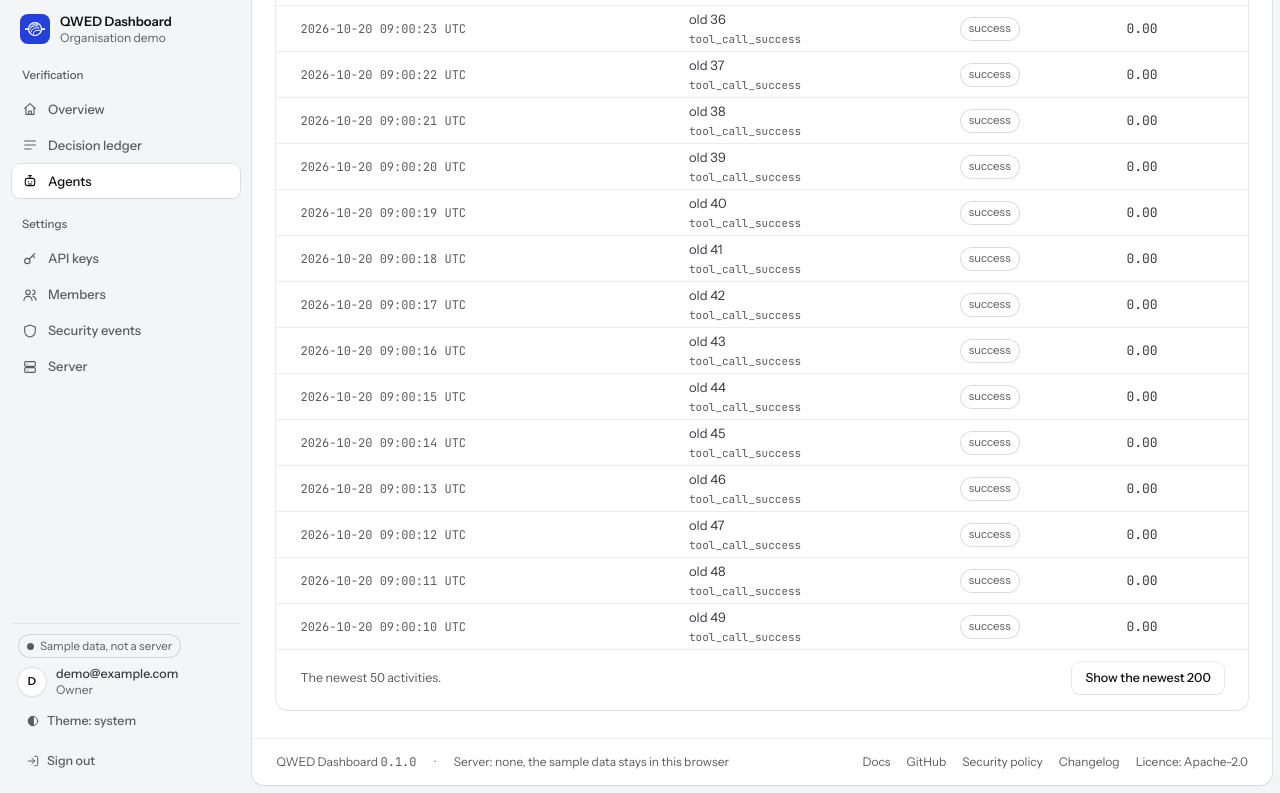
Test: AgentPage › shows the newer 50 on a return visit, not the 200 cached from before
(page scrolled)
Click the button "Show the newest 200" at (1148, 678), box left=1072, top=662, right=1224, bottom=694
(page scrolled)
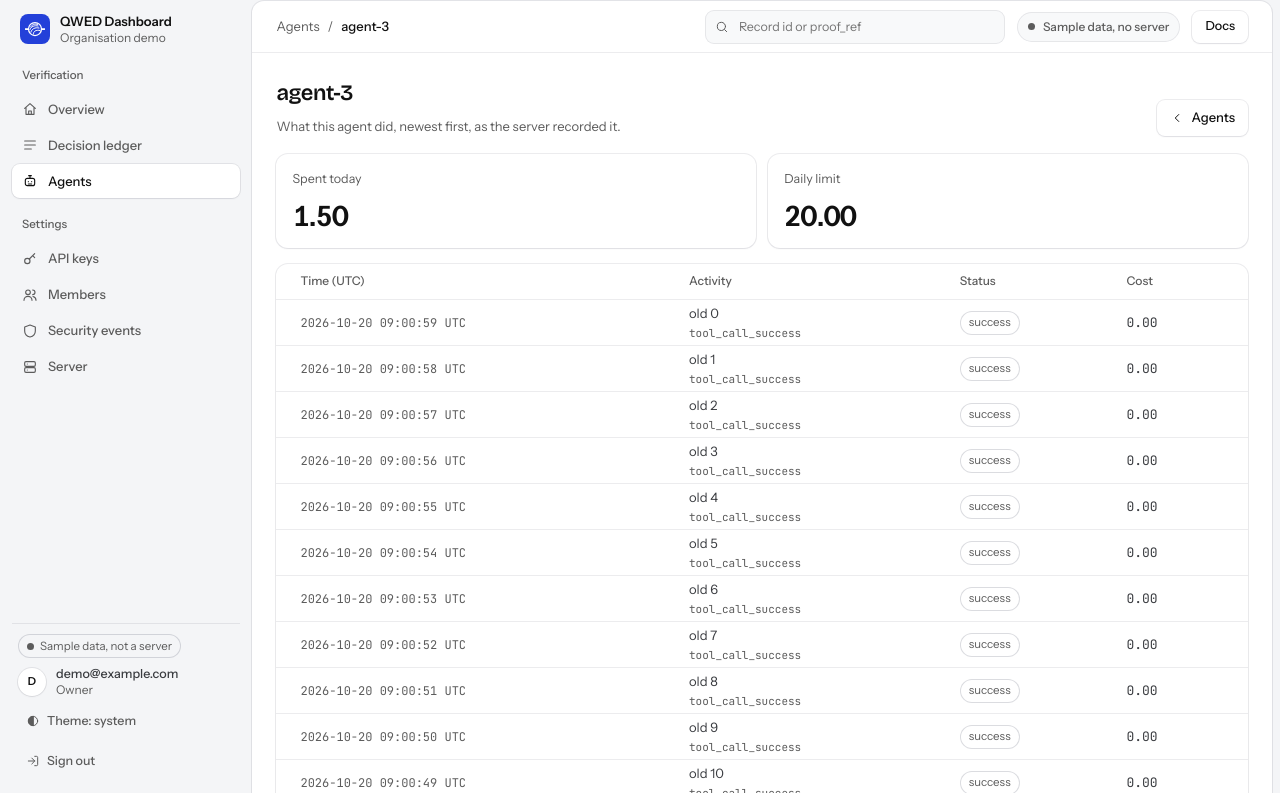
Click the 2nd link "Agents" at (1203, 118), box left=1157, top=100, right=1248, bottom=136
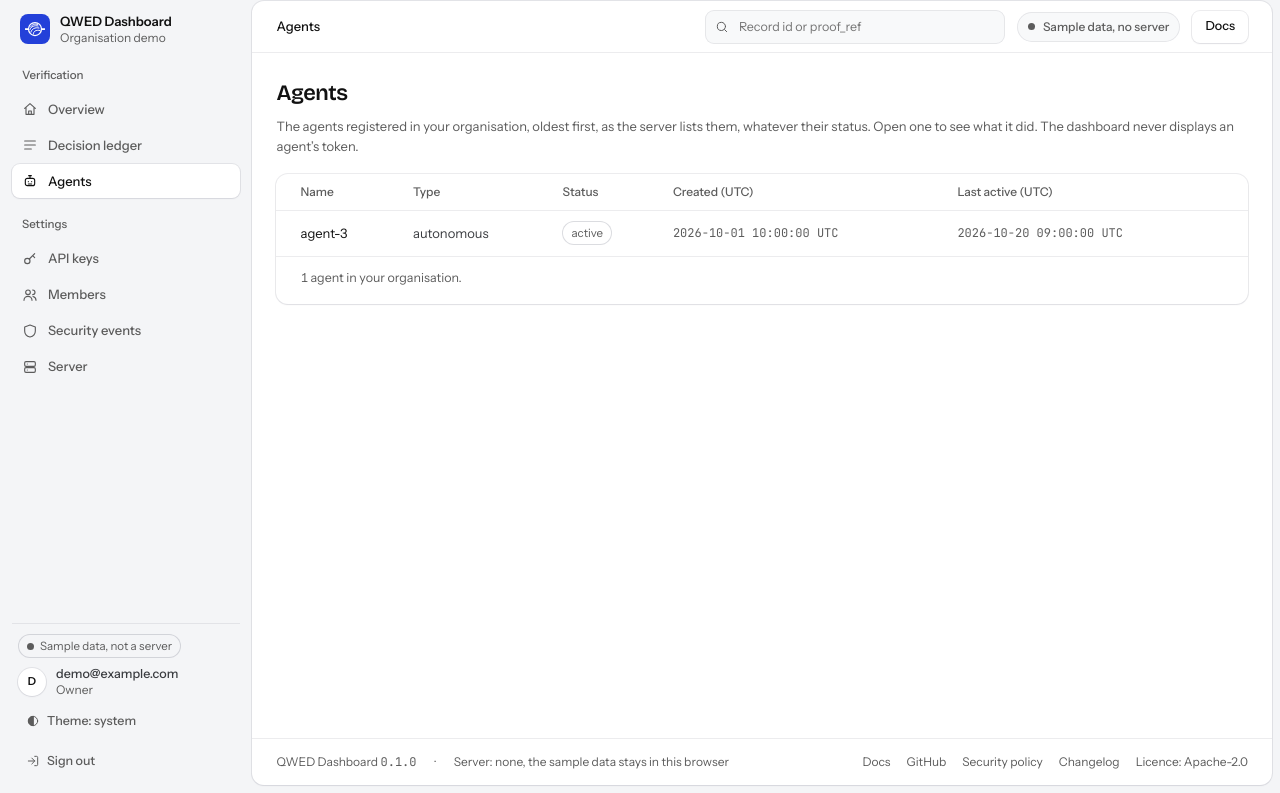
Click the link "agent-3" at (324, 232), box left=300, top=224, right=348, bottom=240
(page scrolled)
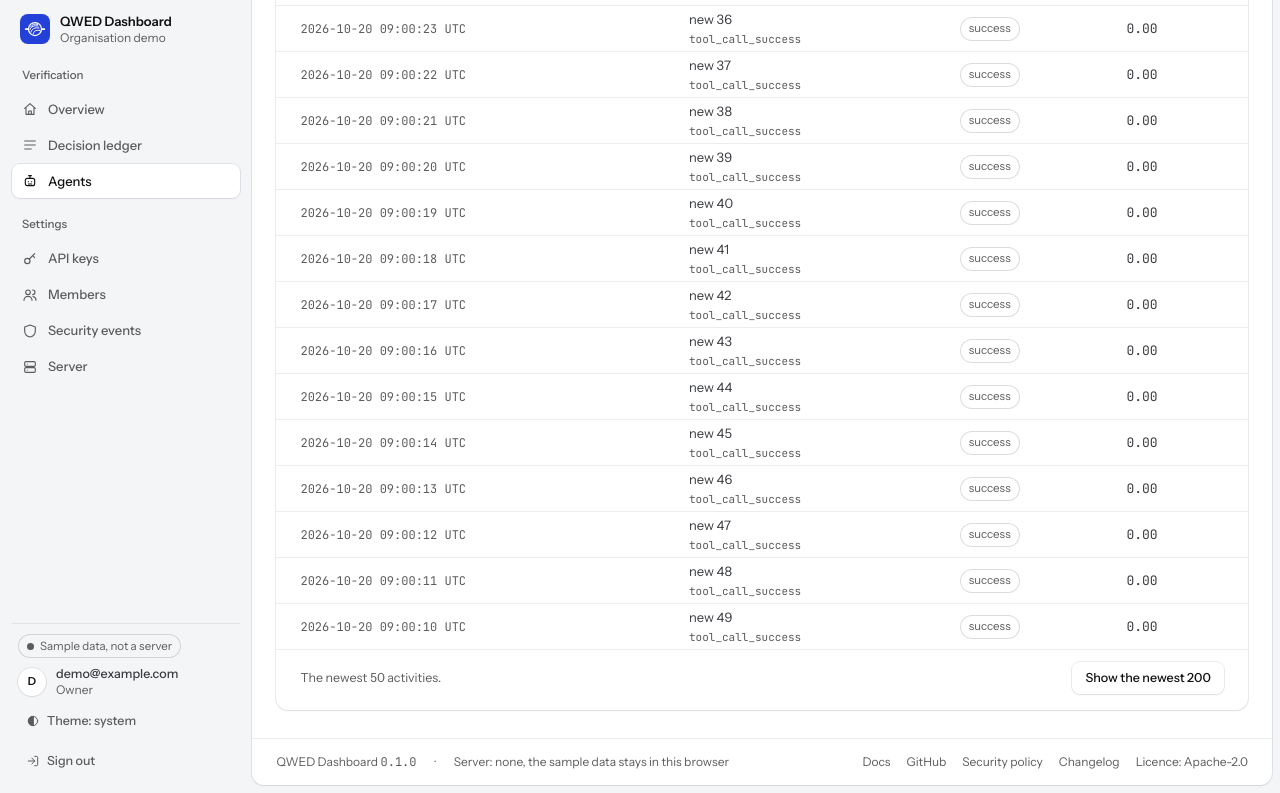
Check: the button "Show the newest 200" is shown, box left=1072, top=662, right=1224, bottom=694
